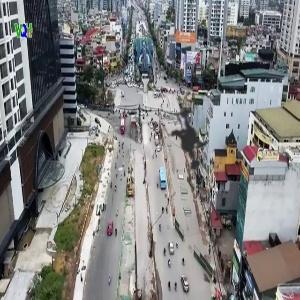drone: (134, 77, 254, 197)
